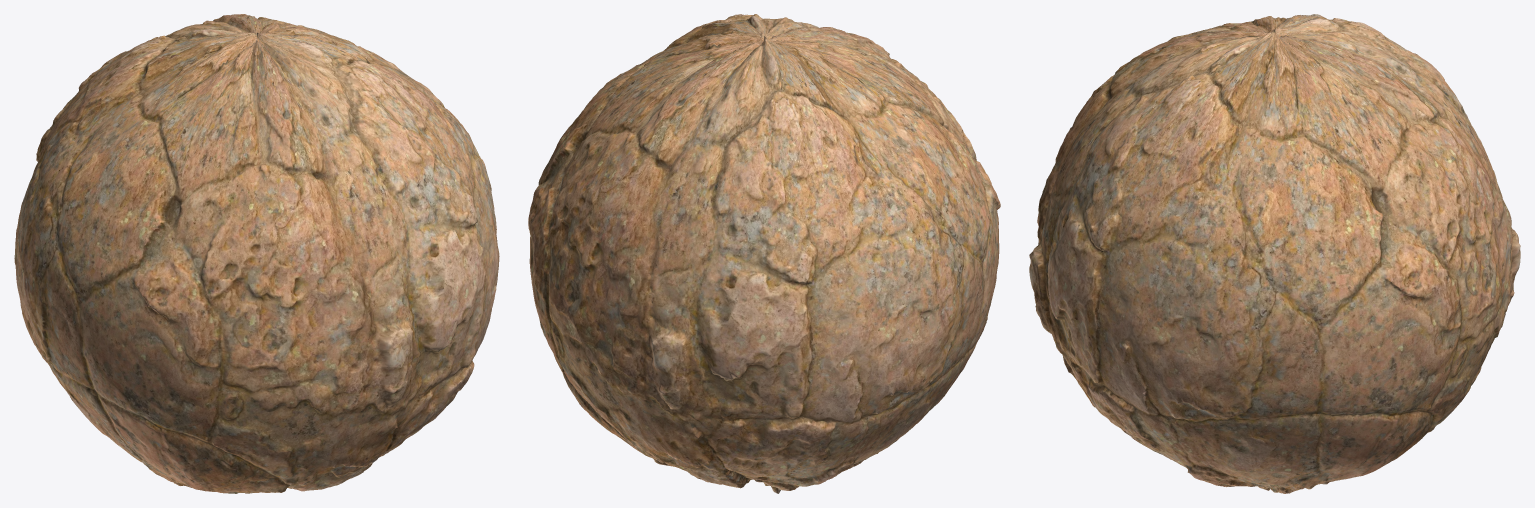
The model's file is rock_pitted_mossy_1k.glb.
3 views of the same model, side by side, from view 1: azimuth 30°, elevation 25°; view 2: azimuth 150°, elevation 25°; view 3: azimuth 270°, elevation 25° (orthographic). The views are drawn at different scales.
Parts seen in each view (by area): view 1: sphere_gltf; view 2: sphere_gltf; view 3: sphere_gltf.
Boxes of the visible parts, x1=… form: sphere_gltf: x1=14, y1=14, x2=499, y2=493; sphere_gltf: x1=528, y1=14, x2=1000, y2=493; sphere_gltf: x1=1029, y1=14, x2=1520, y2=493.
Size of the model in its own units: 1.01 by 1.03 by 1.03.
Materials: 1 (1 with a texture image).
